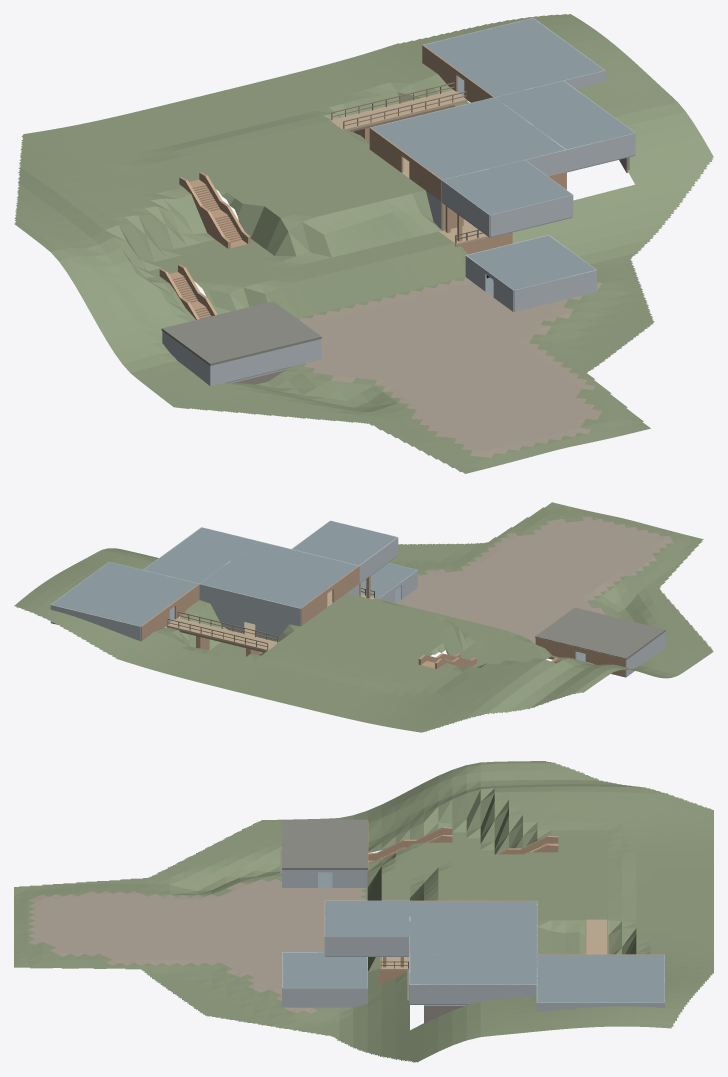
The model's file is red-mesa-review.glb.
3 views of the same model, one above another, from view 1: azimuth 30°, elevation 25°; view 2: azimuth 150°, elevation 25°; view 3: azimuth 270°, elevation 25° (orthographic). The views are drawn at different scales.
Parts seen in each view (by area): view 1: WLD-03 saved ground, Ceiling cap gallery, Ceiling cap chamber, Red Mesa complete expedition shelter roof region0, Ceiling cap fork, Ceiling cap alcove, Ceiling cap wash, Wall shelter S, Wall wash S, Wall alcove S, Red Mesa chamber crossing deck region0, Wall fork S (+5 smaller); view 2: WLD-03 saved ground, Ceiling cap gallery, Ceiling cap chamber, Red Mesa complete expedition shelter roof region0, Ceiling cap fork, Ceiling cap alcove, Wall gallery N, Red Mesa chamber crossing deck region0, Ceiling cap wash, Wall chamber N, Wall alcove W, Wall shelter W (+8 smaller); view 3: WLD-03 saved ground, Ceiling cap gallery, Ceiling cap chamber, Red Mesa complete expedition shelter roof region0, Ceiling cap fork, Ceiling cap alcove, Ceiling cap wash, Wall fork E, Wall alcove E, Wall wash E, Red Mesa chamber crossing deck region0, Wall chamber E (+3 smaller).
Boxes of the visible parts, x1,y1,x2,y2 form: WLD-03 saved ground: (14,14,713,473); Ceiling cap gallery: (371,97,564,179); Ceiling cap chamber: (424,18,604,96); Red Mesa complete expedition shelter roof region0: (161,301,321,365); Ceiling cap fork: (495,80,634,149); Ceiling cap alcove: (442,160,572,214); Ceiling cap wash: (467,235,595,290); Wall shelter S: (210,339,320,385); Wall wash S: (514,270,596,311); Wall alcove S: (490,195,572,236); Red Mesa chamber crossing deck region0: (330,90,467,130); Wall fork S: (566,133,635,171); WLD-03 saved ground: (14,502,713,732); Ceiling cap gallery: (200,541,357,608); Ceiling cap chamber: (51,562,198,626); Red Mesa complete expedition shelter roof region0: (535,607,665,659); Ceiling cap fork: (144,527,257,583); Ceiling cap alcove: (292,521,396,565); Wall gallery N: (199,583,300,626); Red Mesa chamber crossing deck region0: (166,618,279,651); Ceiling cap wash: (361,563,416,598); Wall chamber N: (50,604,140,641); Wall alcove W: (359,537,398,582); Wall shelter W: (626,632,665,676); WLD-03 saved ground: (14,761,713,1062); Ceiling cap gallery: (410,901,537,954); Ceiling cap chamber: (537,954,664,1002); Red Mesa complete expedition shelter roof region0: (282,819,367,869); Ceiling cap fork: (410,954,537,984); Ceiling cap alcove: (325,901,409,936); Ceiling cap wash: (282,952,367,987); Wall fork E: (410,984,537,1003); Wall alcove E: (325,937,409,956); Wall wash E: (282,988,367,1007); Red Mesa chamber crossing deck region0: (585,919,608,954); Wall chamber E: (537,1002,664,1012).
Bounding box in the file's own units: 91 × 12.65 × 99.
74 materials, 59 textured.
